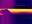Hotspot: (7, 9, 31, 13)
